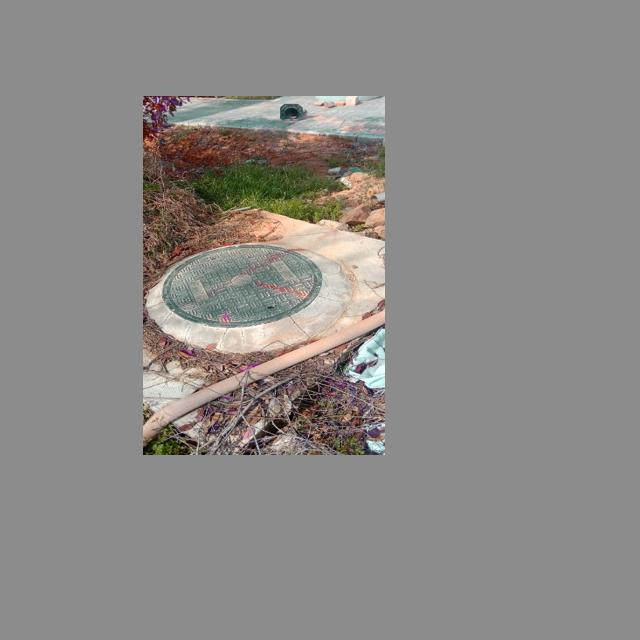good: (161, 243, 322, 326)
